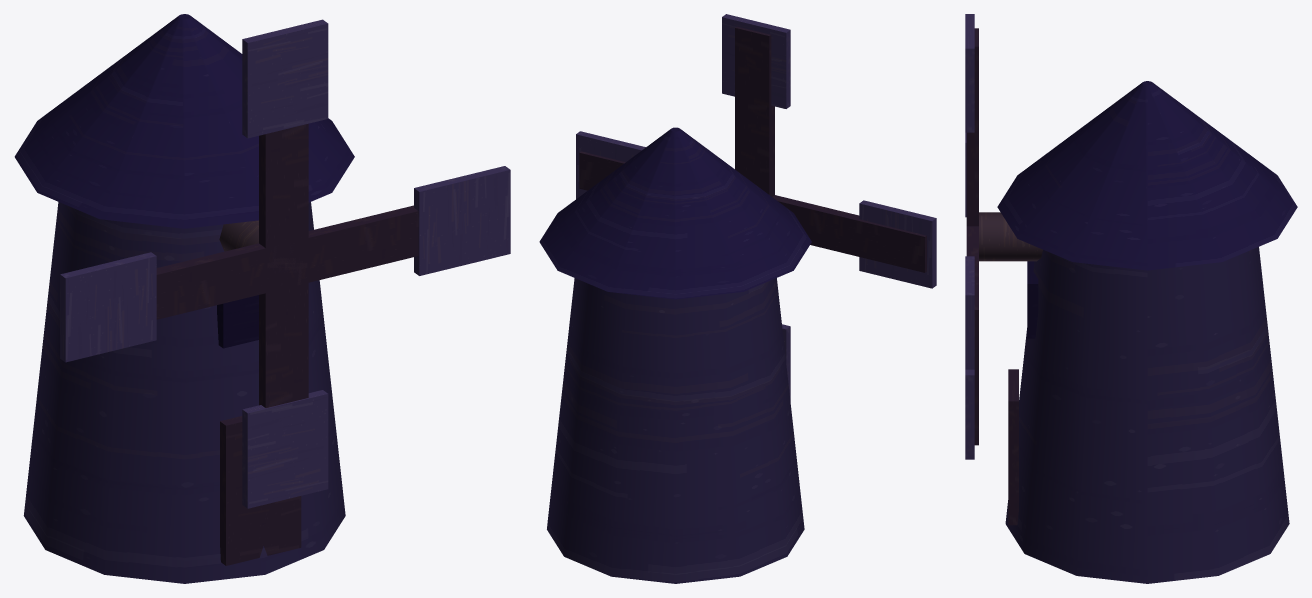
File: moulin-a-vent.glb
The picture shows the model from 3 angles, left to right: view 1: azimuth 30°, elevation 25°; view 2: azimuth 150°, elevation 25°; view 3: azimuth 270°, elevation 25°; orthographic projection. The views are drawn at different scales.
Parts seen in each view (by area): view 1: Corps, Toit, Toile1, Toile4, Toile3, Toile2, Aile1, Aile3, Aile2, Porte, Aile4, Fenetre (+1 smaller); view 2: Corps, Toit, Aile1, Aile4, Toile4, Toile1, Toile2, Aile2; view 3: Corps, Toit, Axe, Aile1, Porte, Toile1, Toile2, Toile3, Aile2, Fenetre, Aile3.
Boxes of the visible parts, bbox=[...] form: Corps: bbox=[23, 202, 345, 583]; Toit: bbox=[14, 14, 354, 228]; Toile1: bbox=[242, 19, 328, 138]; Toile4: bbox=[60, 252, 156, 362]; Toile3: bbox=[242, 390, 328, 508]; Toile2: bbox=[414, 166, 510, 275]; Aile1: bbox=[259, 123, 308, 277]; Aile3: bbox=[259, 255, 308, 407]; Aile2: bbox=[280, 205, 418, 289]; Porte: bbox=[220, 416, 301, 565]; Aile4: bbox=[156, 242, 293, 319]; Fenetre: bbox=[217, 295, 258, 348]; Corps: bbox=[547, 278, 804, 583]; Toit: bbox=[539, 127, 811, 299]; Aile1: bbox=[735, 26, 774, 196]; Aile4: bbox=[772, 195, 926, 272]; Toile4: bbox=[859, 200, 936, 288]; Toile1: bbox=[722, 14, 790, 108]; Toile2: bbox=[576, 131, 645, 198]; Aile2: bbox=[579, 151, 625, 190]; Corps: bbox=[1005, 247, 1289, 583]; Toit: bbox=[997, 81, 1297, 270]; Axe: bbox=[979, 212, 1042, 261]; Aile1: bbox=[966, 28, 978, 226]; Porte: bbox=[1008, 369, 1018, 525]; Toile1: bbox=[965, 14, 974, 132]; Toile2: bbox=[965, 256, 974, 369]; Toile3: bbox=[965, 369, 974, 459]; Aile2: bbox=[966, 226, 978, 349]; Fenetre: bbox=[1027, 261, 1038, 338]; Aile3: bbox=[974, 349, 978, 445].
Bounding box in the file's own units: 1.66 × 1.99 × 1.22.
Materials: 6 (6 with a texture image).
